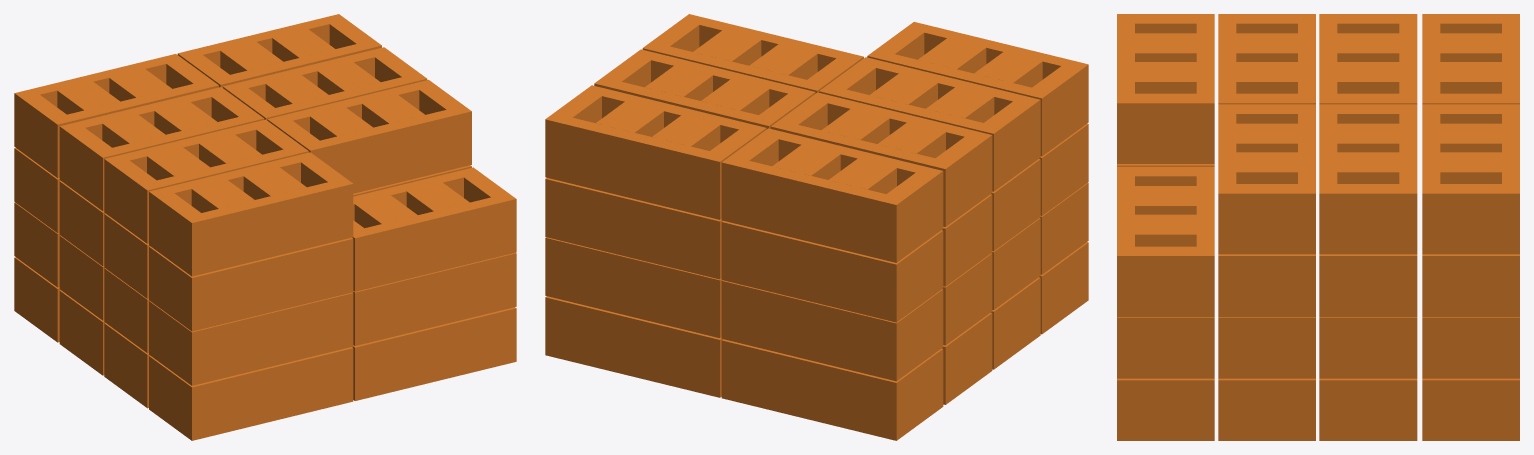
The picture shows the model from 3 angles, left to right: view 1: azimuth 30°, elevation 25°; view 2: azimuth 150°, elevation 25°; view 3: azimuth 270°, elevation 25°; orthographic projection. The views are drawn at different scales.
Visible parts, largest first — view 1: Куб.040; view 2: Куб.040; view 3: Куб.040.
Boxes of the visible parts, left/top/right/bottom form: Куб.040: left=14, top=14, right=516, bottom=440; Куб.040: left=545, top=14, right=1088, bottom=440; Куб.040: left=1117, top=14, right=1519, bottom=440.
Bounding box in the file's own units: 511 × 328 × 485.
